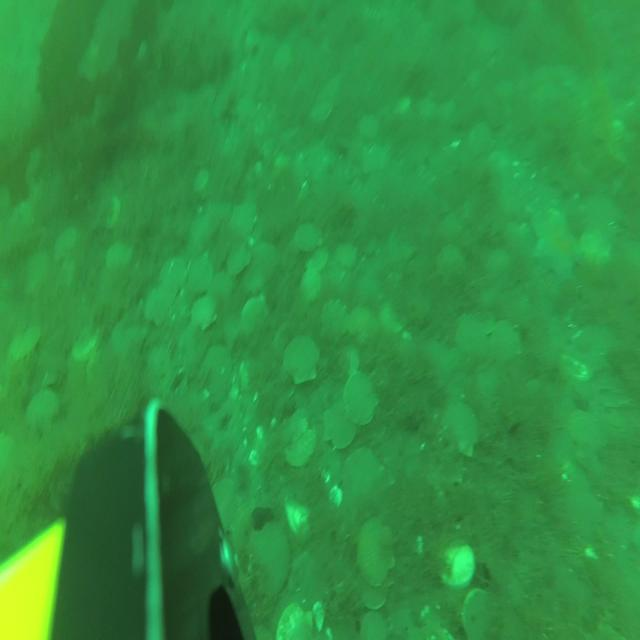scallop: (247, 516, 293, 602), (342, 446, 386, 512), (357, 519, 397, 591), (441, 396, 483, 462), (282, 406, 318, 468), (342, 369, 380, 426), (320, 397, 358, 452), (282, 332, 320, 386), (437, 540, 478, 590), (208, 473, 240, 537), (461, 588, 497, 640), (454, 311, 489, 361), (274, 602, 320, 640), (109, 315, 146, 362), (8, 321, 44, 365), (24, 387, 60, 428), (320, 296, 350, 344), (22, 249, 50, 299), (435, 240, 465, 286), (568, 404, 598, 450), (490, 319, 522, 362), (580, 224, 612, 266), (202, 345, 234, 384), (143, 284, 172, 327), (71, 327, 103, 365), (349, 304, 376, 348), (240, 295, 268, 335), (160, 252, 188, 291), (292, 222, 326, 254), (187, 254, 214, 293), (272, 320, 299, 358), (53, 227, 78, 268), (226, 241, 252, 279), (230, 200, 256, 238), (380, 298, 407, 334), (105, 240, 134, 273), (190, 297, 218, 331), (469, 120, 492, 159), (358, 610, 388, 639), (206, 270, 233, 300), (233, 95, 258, 126), (486, 247, 508, 282), (102, 192, 121, 232), (360, 585, 388, 611), (300, 269, 322, 302), (335, 241, 359, 270), (305, 244, 330, 271), (310, 95, 332, 125), (477, 27, 498, 58), (360, 112, 380, 140), (192, 167, 211, 194), (496, 74, 514, 101), (419, 96, 437, 122), (438, 96, 456, 122), (393, 94, 413, 117)
starfish: (530, 201, 582, 285)
